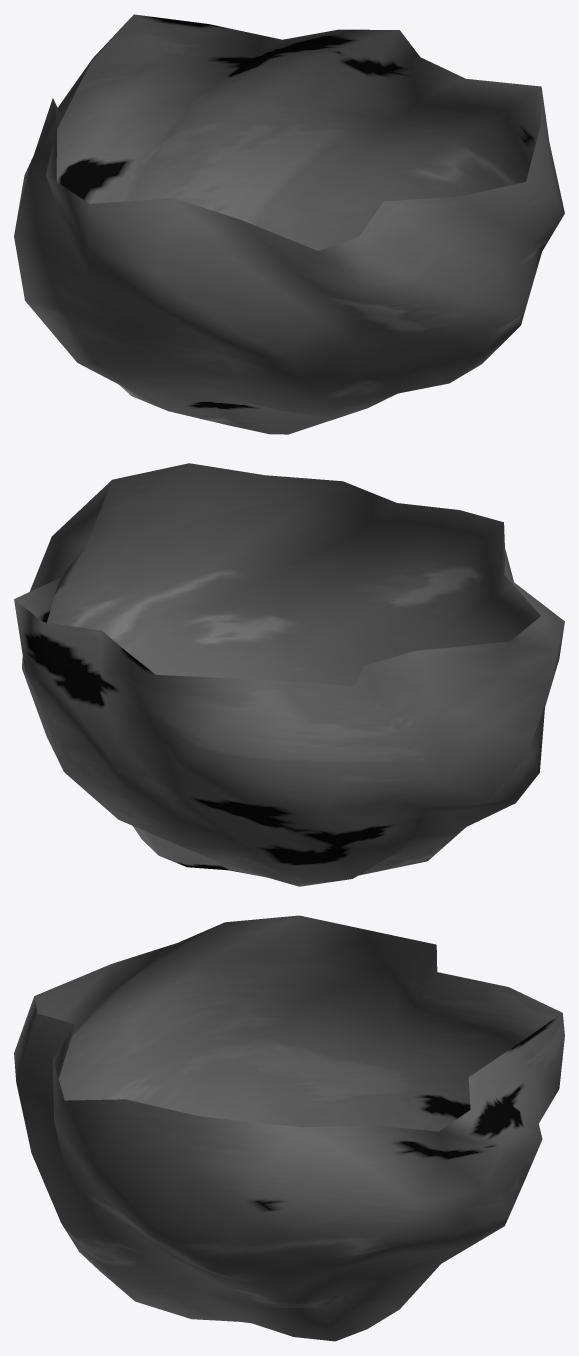
The model's file is xuanwo02.FBX.
3 views of the same model, one above another, from view 1: azimuth 30°, elevation 25°; view 2: azimuth 150°, elevation 25°; view 3: azimuth 270°, elevation 25° (orthographic).
Visible parts, largest first — view 1: Cylinder001; view 2: Cylinder001; view 3: Cylinder001.
Part boxes in pixels (x1,y1,x2,y2): Cylinder001: (14, 14, 564, 434); Cylinder001: (14, 463, 564, 886); Cylinder001: (14, 915, 564, 1341).
Bounding box in the file's own units: 439 × 270 × 443.
Materials: 1 (1 with a texture image).
